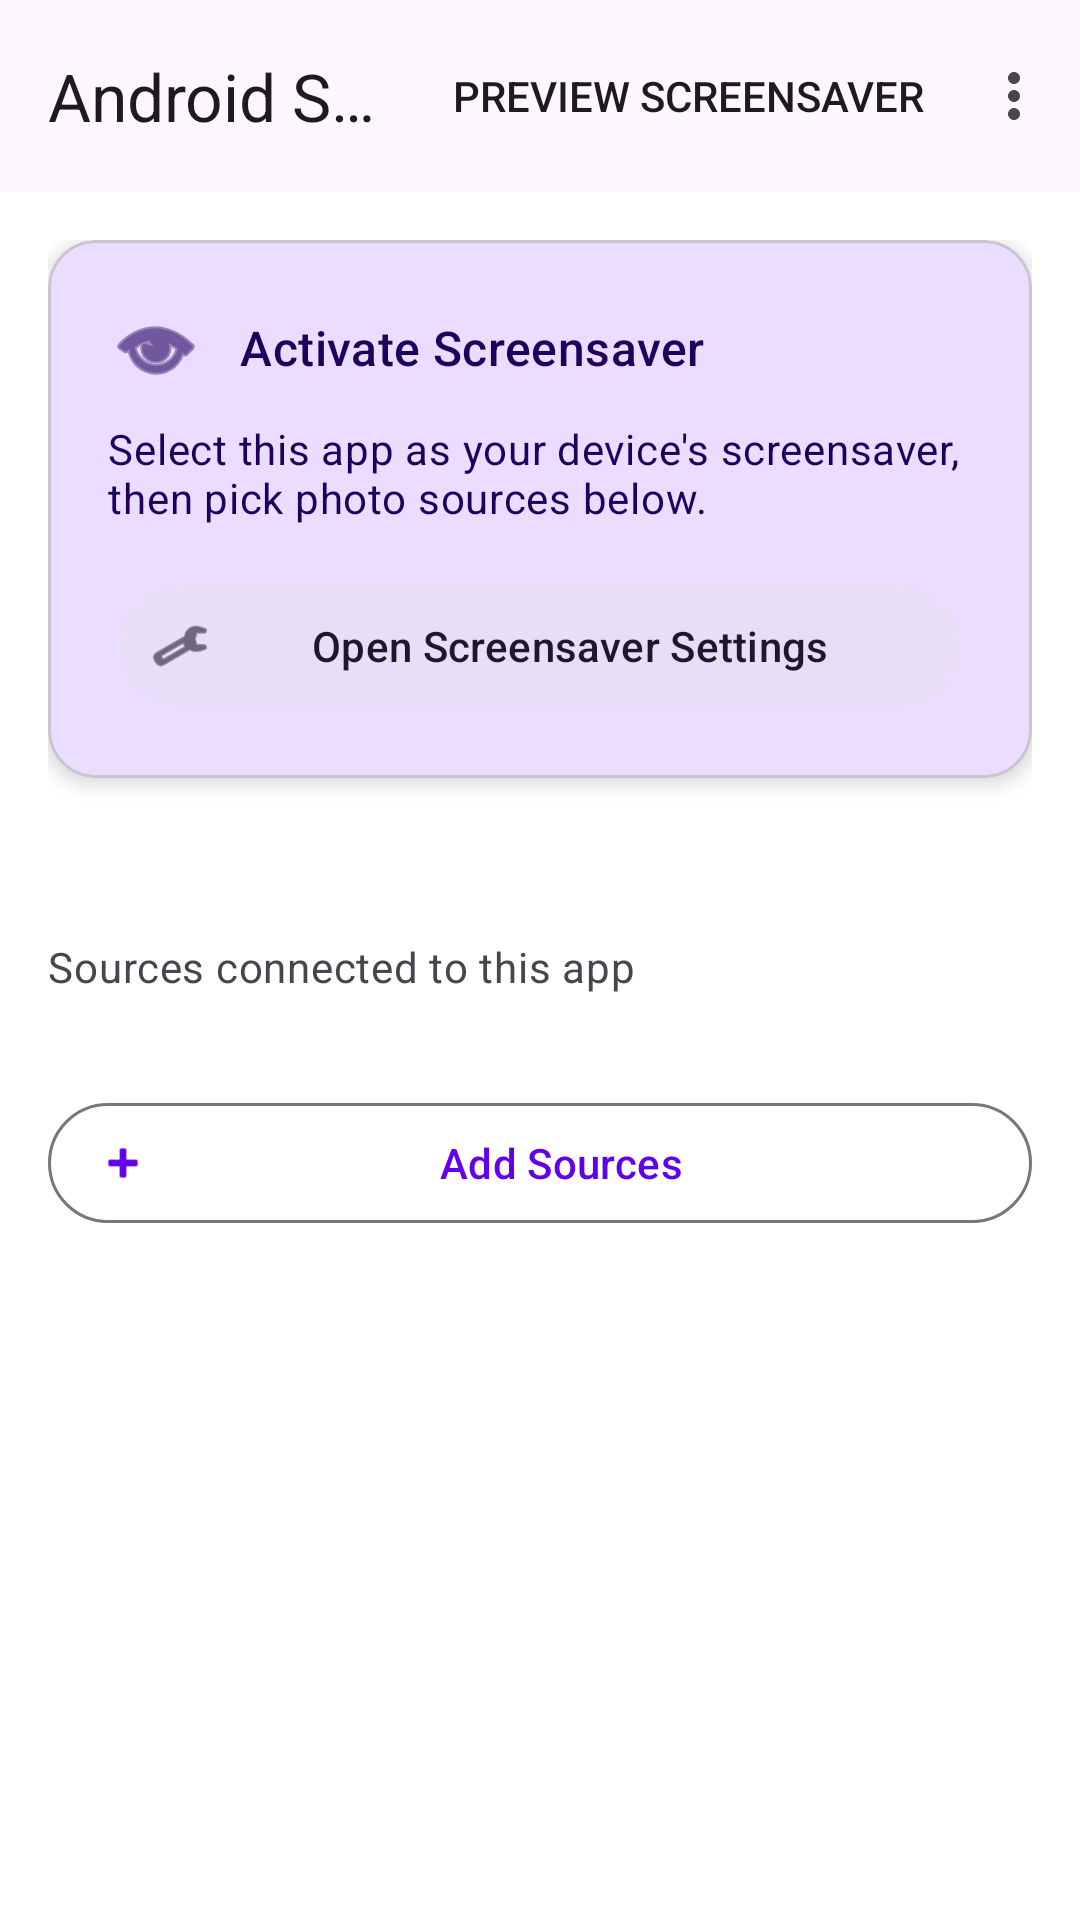

Named icons in this screenshot (1080 x 1920) and their centers, [x,y]:
view: [156,350]
